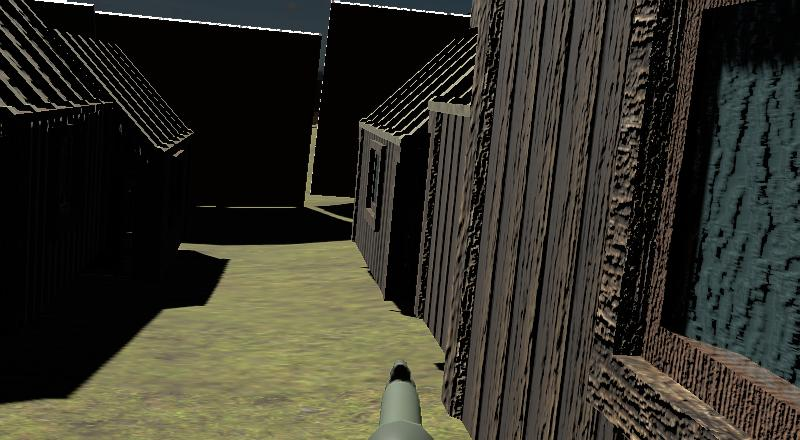House: (348, 0, 758, 378), (1, 0, 197, 380)
